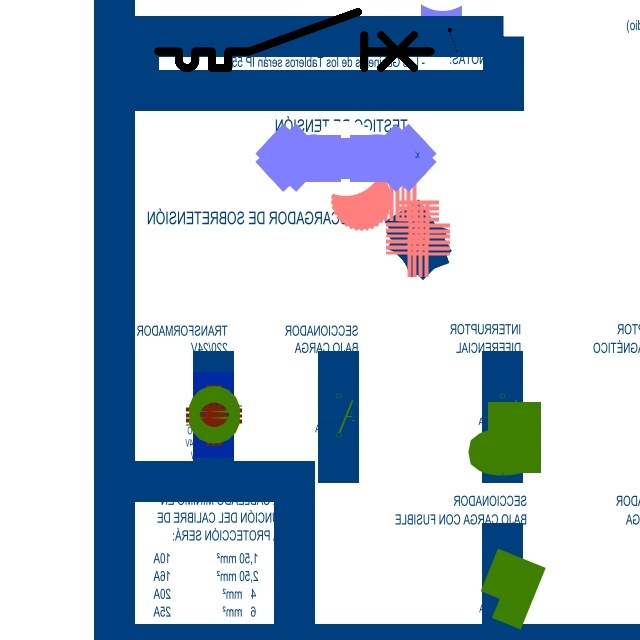interruptor_termomagnetico: (151, 5, 438, 75)
